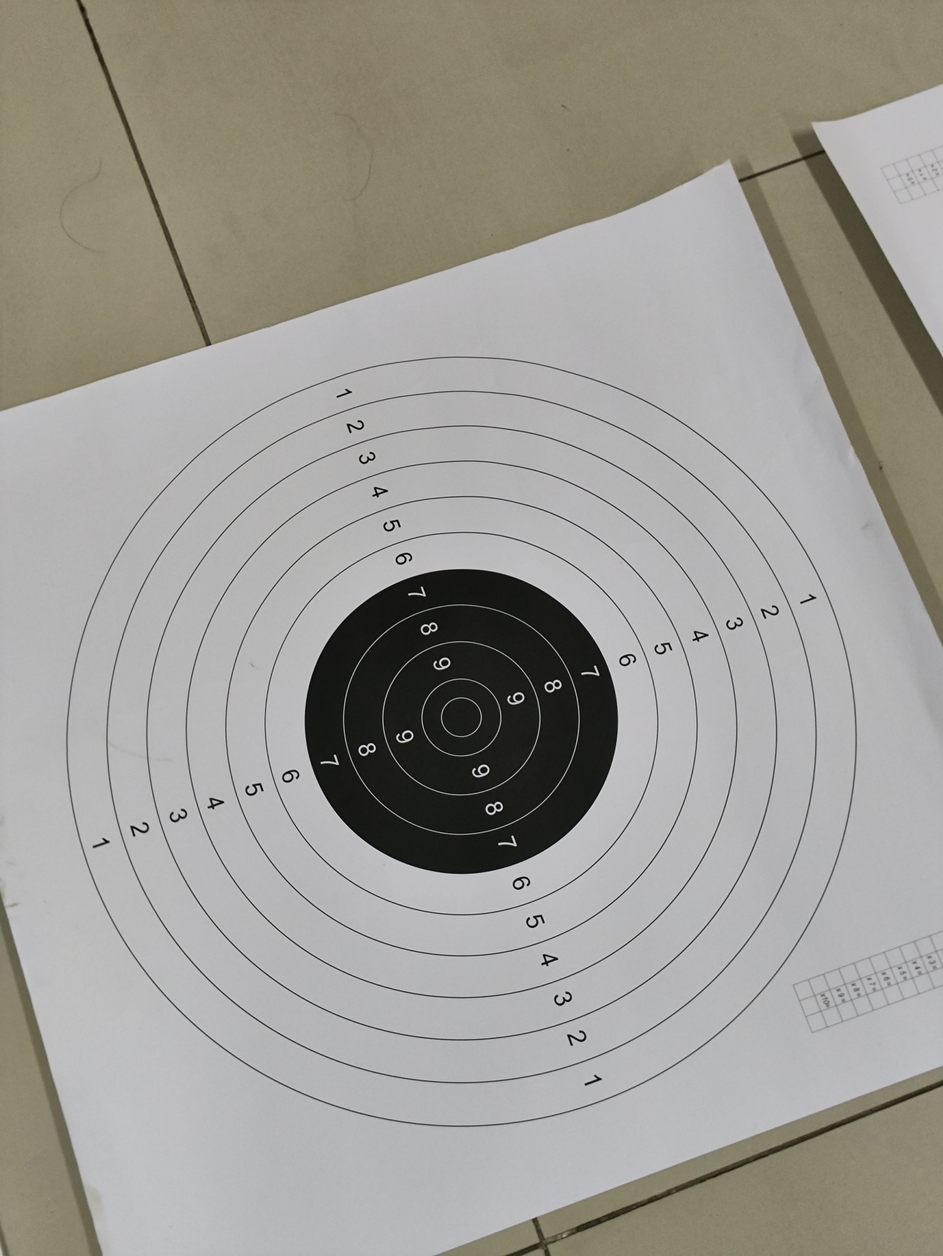target: (52, 331, 872, 1149)
